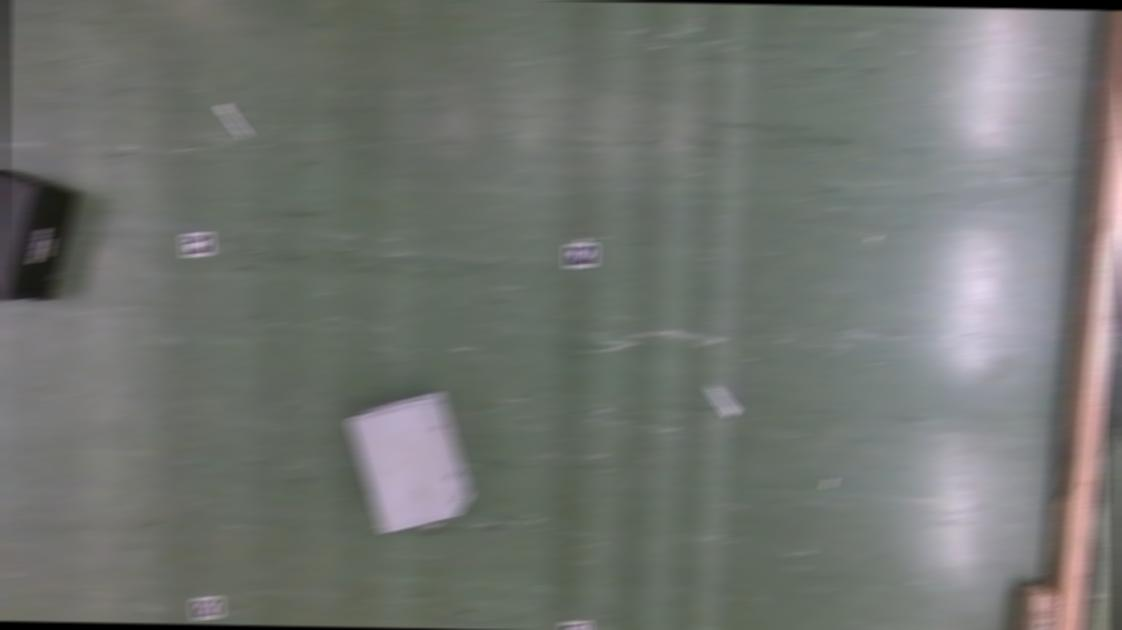probes: (219, 100, 248, 134), (708, 383, 737, 415)
rako: (346, 386, 474, 532), (0, 164, 79, 301)
